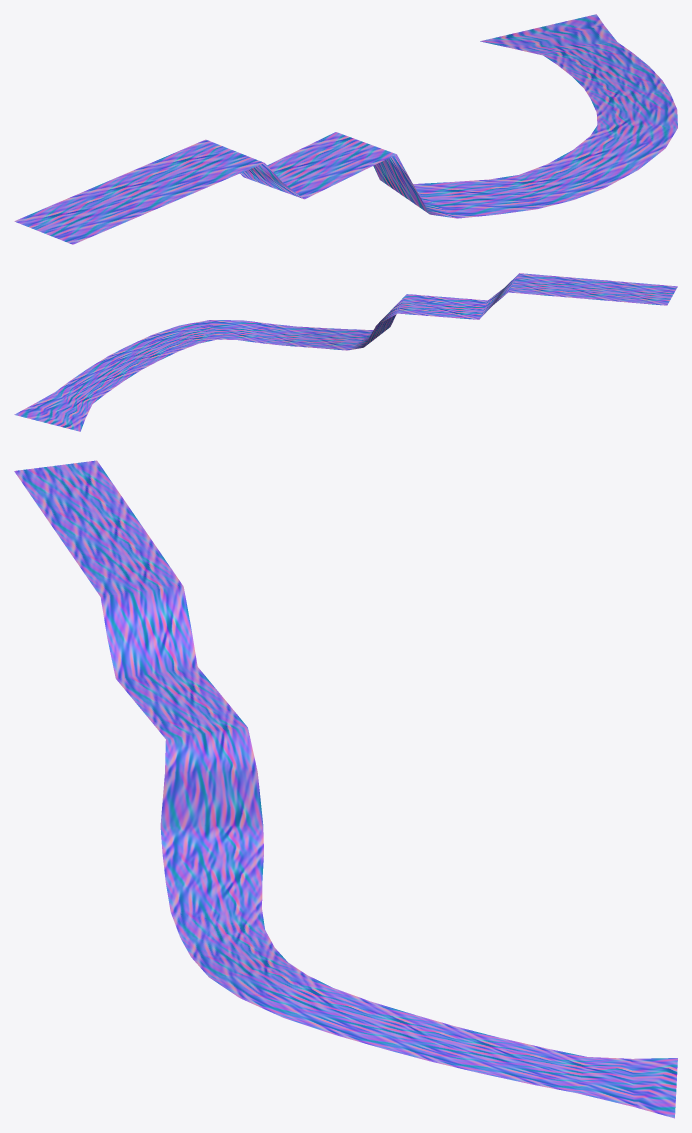
File: RiverMesh (Spline tool not included) 1.fbx
3 views of the same model, one above another, from view 1: azimuth 30°, elevation 25°; view 2: azimuth 150°, elevation 25°; view 3: azimuth 270°, elevation 25° (orthographic). The views are drawn at different scales.
Parts seen in each view (by area): view 1: RiverMesh__Spline_tool_not_included_; view 2: RiverMesh__Spline_tool_not_included_; view 3: RiverMesh__Spline_tool_not_included_.
Part boxes in pixels (<box>): RiverMesh__Spline_tool_not_included_: <box>14,14,677,244</box>; RiverMesh__Spline_tool_not_included_: <box>14,273,677,431</box>; RiverMesh__Spline_tool_not_included_: <box>14,460,677,1118</box>.
Size of the model in its own units: 10967 by 2434 by 6902.
